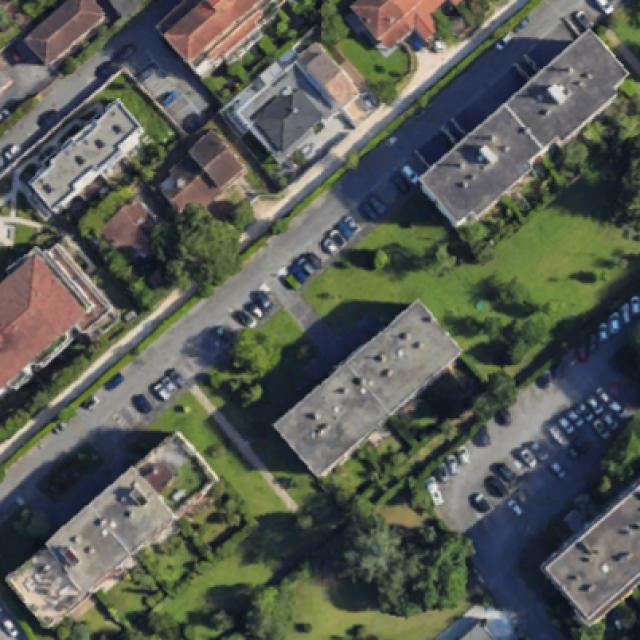immeuble: (413, 27, 635, 234), (1, 430, 223, 630), (270, 297, 461, 479), (533, 471, 640, 631)
